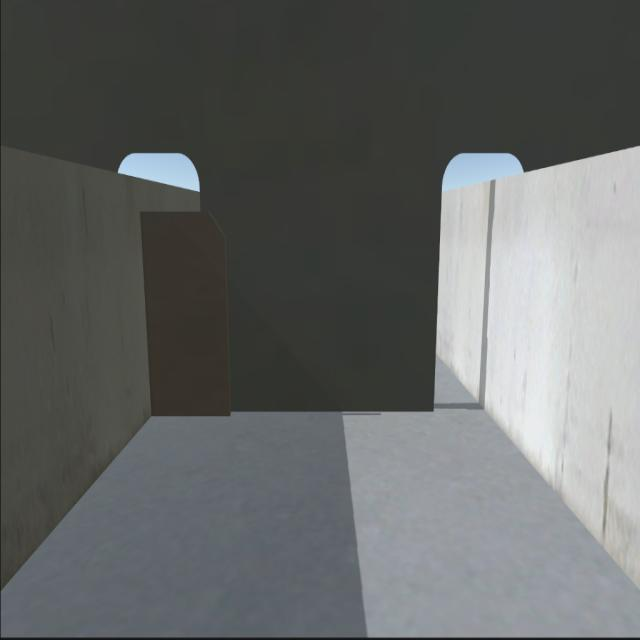fillet_yong_jeop_jang: (152, 404, 436, 420)
longi_yong_jeop_jang: (138, 213, 161, 417)
plate_CP03: (138, 207, 234, 414)
